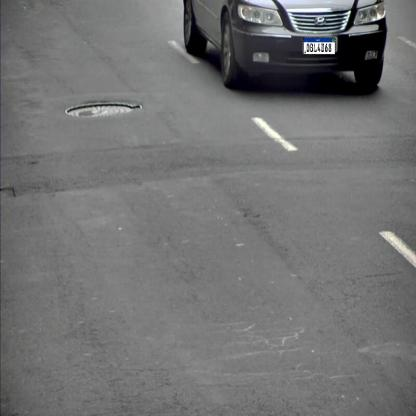PlacaM: (304, 37, 336, 55)
